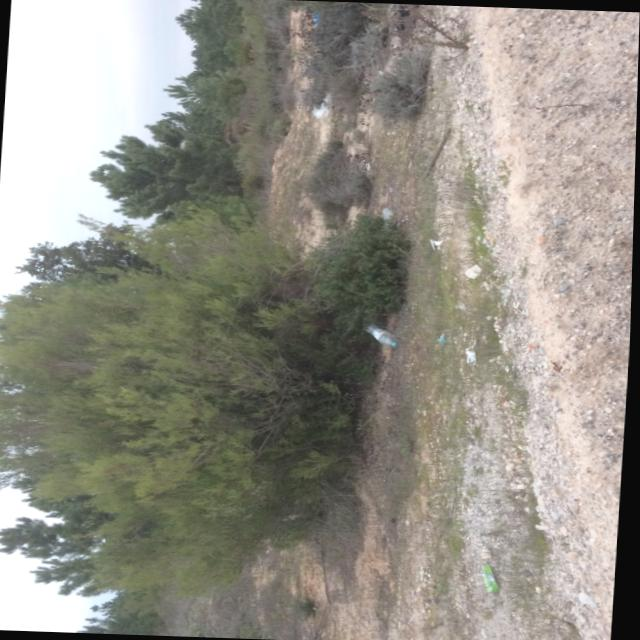Plastic: (363, 316, 405, 350), (379, 200, 401, 236), (309, 95, 334, 118), (464, 342, 483, 364), (434, 328, 451, 347)
